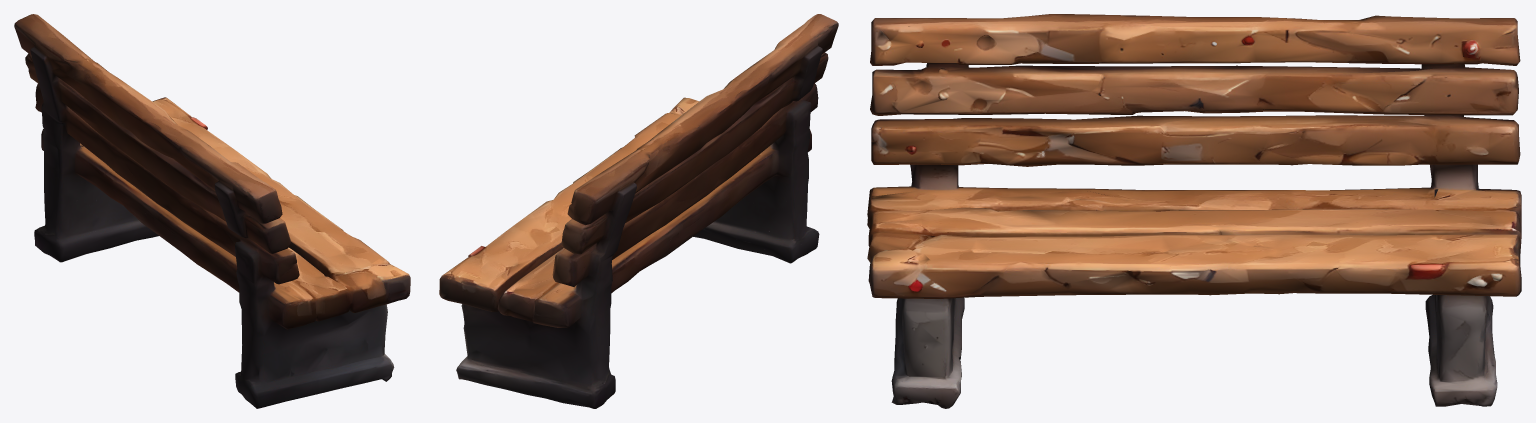
The model's file is bench.glb.
3 renders of one model, left to right at view 1: azimuth 30°, elevation 25°; view 2: azimuth 150°, elevation 25°; view 3: azimuth 270°, elevation 25°, orthographic. The views are drawn at different scales.
Parts seen in each view (by area): view 1: tripo_node_f332ef86-0710-45eb-bf74-a9be2365e148; view 2: tripo_node_f332ef86-0710-45eb-bf74-a9be2365e148; view 3: tripo_node_f332ef86-0710-45eb-bf74-a9be2365e148.
Boxes of the visible parts, x1=… form: tripo_node_f332ef86-0710-45eb-bf74-a9be2365e148: x1=14, y1=14, x2=410, y2=408; tripo_node_f332ef86-0710-45eb-bf74-a9be2365e148: x1=439, y1=14, x2=838, y2=408; tripo_node_f332ef86-0710-45eb-bf74-a9be2365e148: x1=867, y1=14, x2=1521, y2=408.
Bounding box in the file's own units: 0.6846 × 0.9 × 1.78.
1 material, 1 textured.
